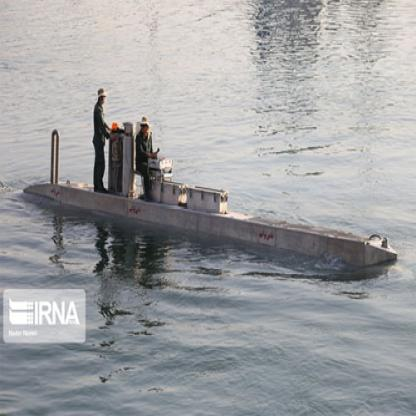Submarine: (23, 121, 398, 270)
